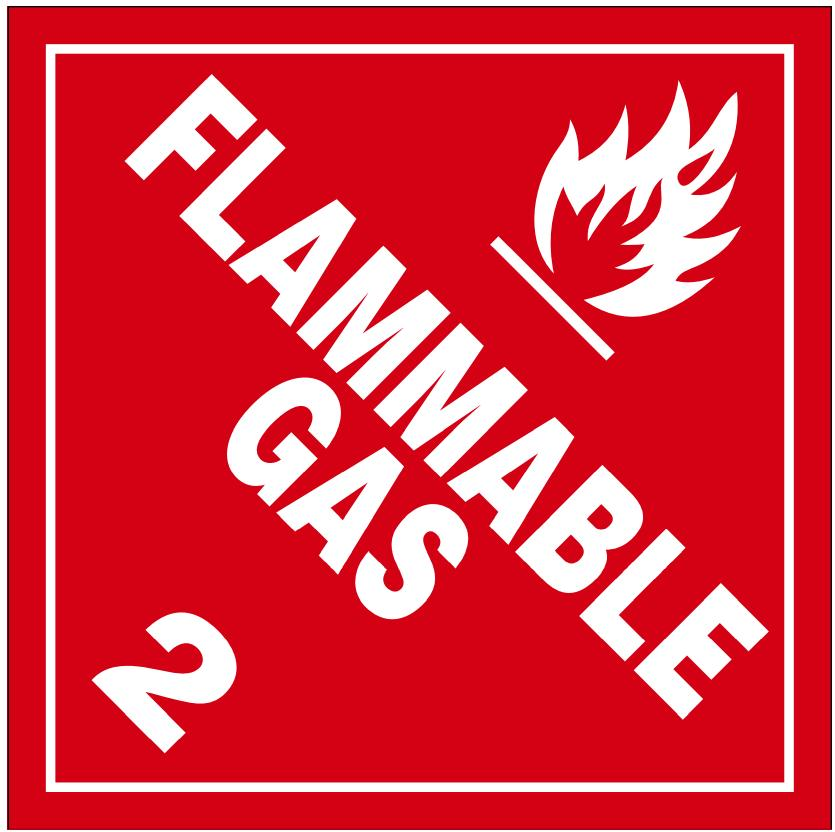flammable: (1, 1, 835, 832)
